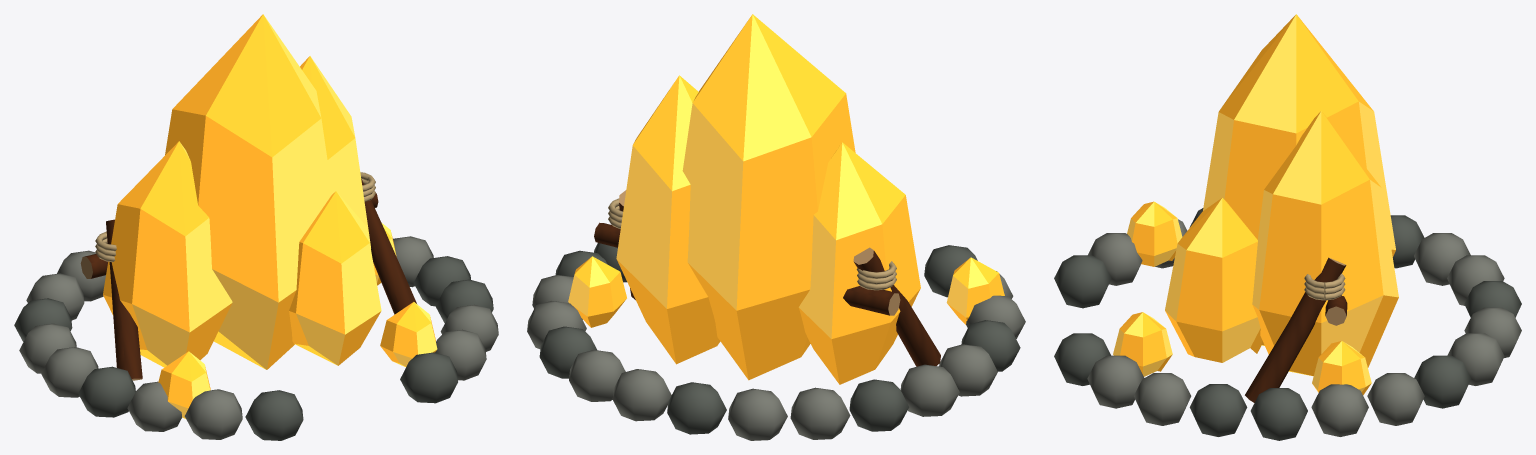
3 renders of one model, left to right at view 1: azimuth 30°, elevation 25°; view 2: azimuth 150°, elevation 25°; view 3: azimuth 270°, elevation 25°, orthographic. The views are drawn at different scales.
Parts seen in each view (by area): view 1: canopy-amber-outcrop · evaluated preview mesh; view 2: canopy-amber-outcrop · evaluated preview mesh; view 3: canopy-amber-outcrop · evaluated preview mesh.
Boxes of the visible parts, x1,y1,x2,y2 form: canopy-amber-outcrop · evaluated preview mesh: [14, 14, 498, 440]; canopy-amber-outcrop · evaluated preview mesh: [527, 14, 1025, 440]; canopy-amber-outcrop · evaluated preview mesh: [1054, 14, 1521, 440].
Size of the model in its own units: 4.43 by 3.29 by 4.12.
Materials: 7 (1 with a texture image).
